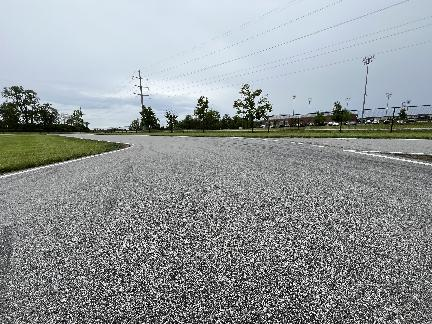Grass: (0, 135, 121, 173), (98, 129, 431, 139)
Lane: (0, 135, 431, 323)
